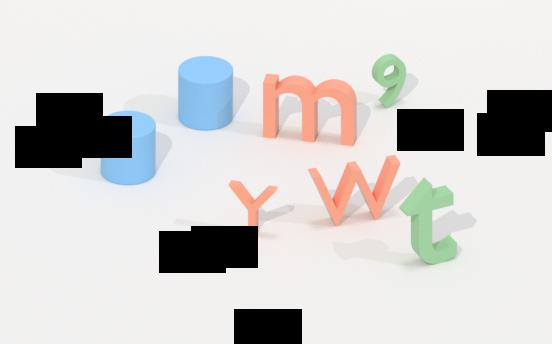9: (370, 44, 410, 114)
Y-hoa: (228, 173, 277, 247)
m: (260, 61, 357, 151)
t: (401, 170, 463, 277)
tru: (176, 50, 237, 137), (101, 109, 157, 189)
w: (302, 151, 399, 228)
